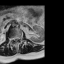CCS_normal: (15, 35, 17, 44)
LFS_normal: (19, 34, 21, 41)
LLS_normal: (17, 34, 19, 42)
RFS_normal: (10, 35, 12, 42)
RLS_normal: (12, 34, 15, 42)
